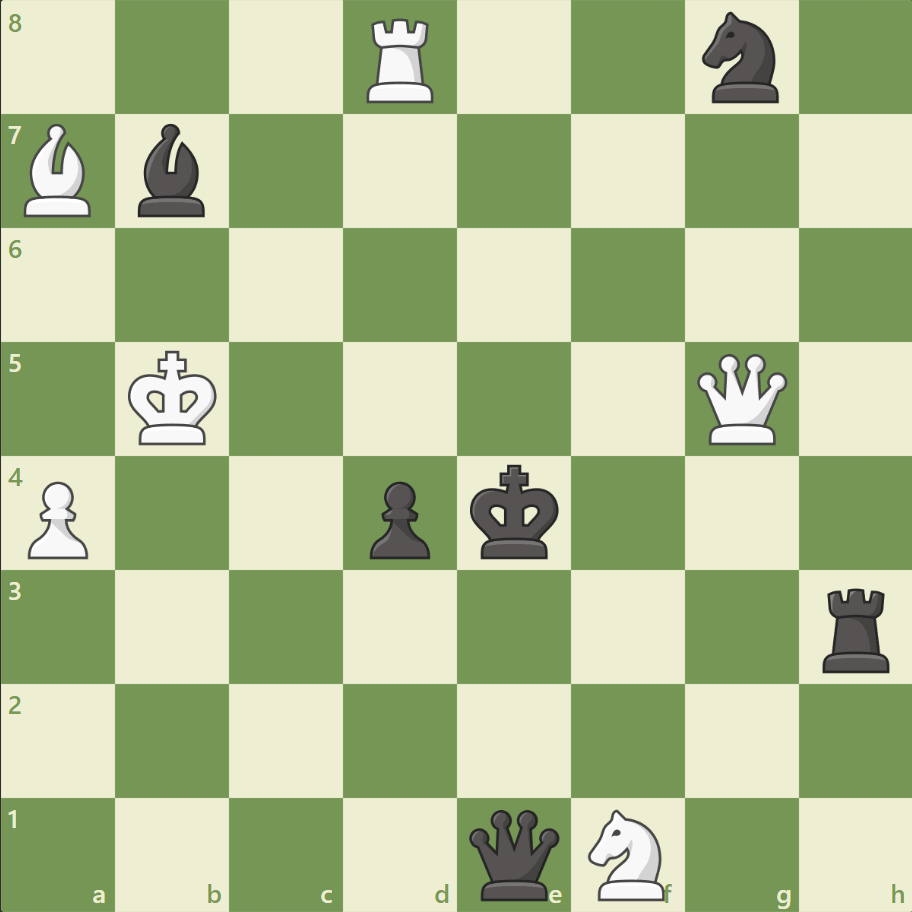B: (24, 125, 103, 229)
K: (128, 353, 226, 455)
N: (587, 808, 676, 909)
P: (28, 476, 100, 560)
Q: (695, 353, 796, 455)
R: (365, 13, 443, 113)
b: (138, 125, 216, 229)
k: (469, 467, 567, 568)
n: (700, 13, 789, 114)
p: (369, 476, 441, 560)
q: (468, 807, 569, 909)
r: (819, 581, 897, 681)
